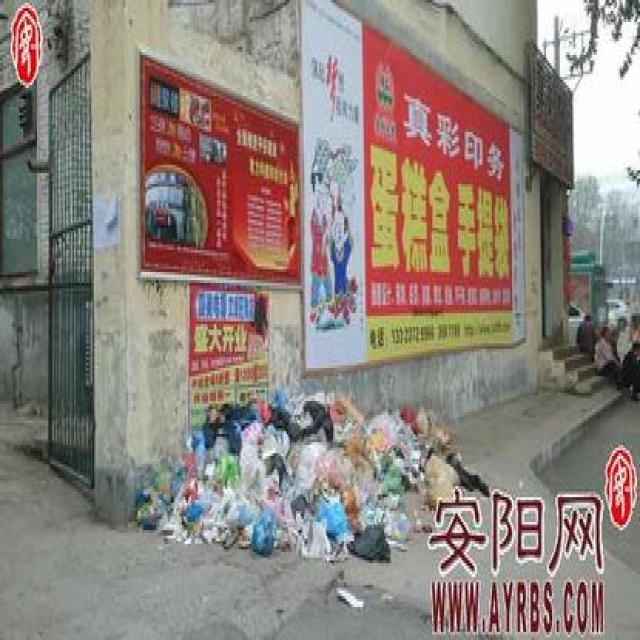garbage: (132, 382, 488, 607)
